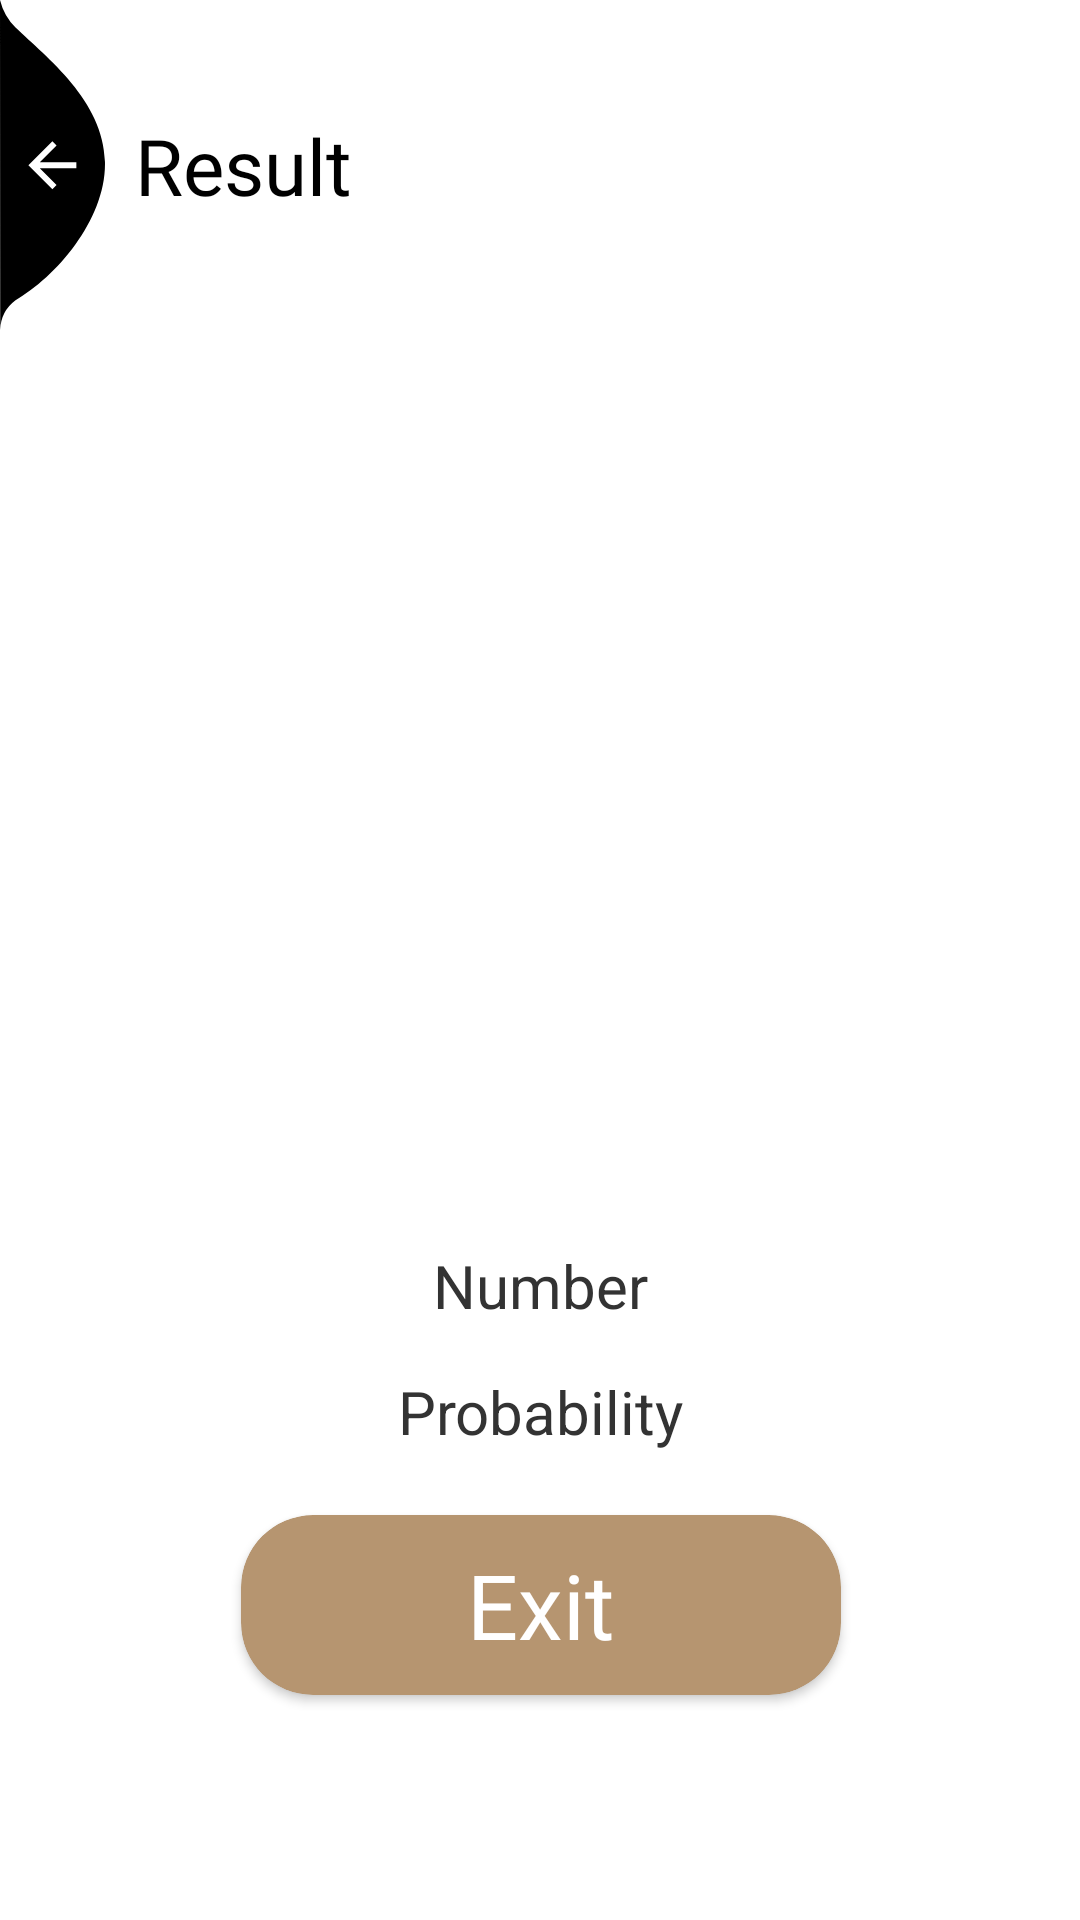

Screen size 1080x1920. Icon name, then its center in pixels as point (x, y):
back: point (52, 164)
